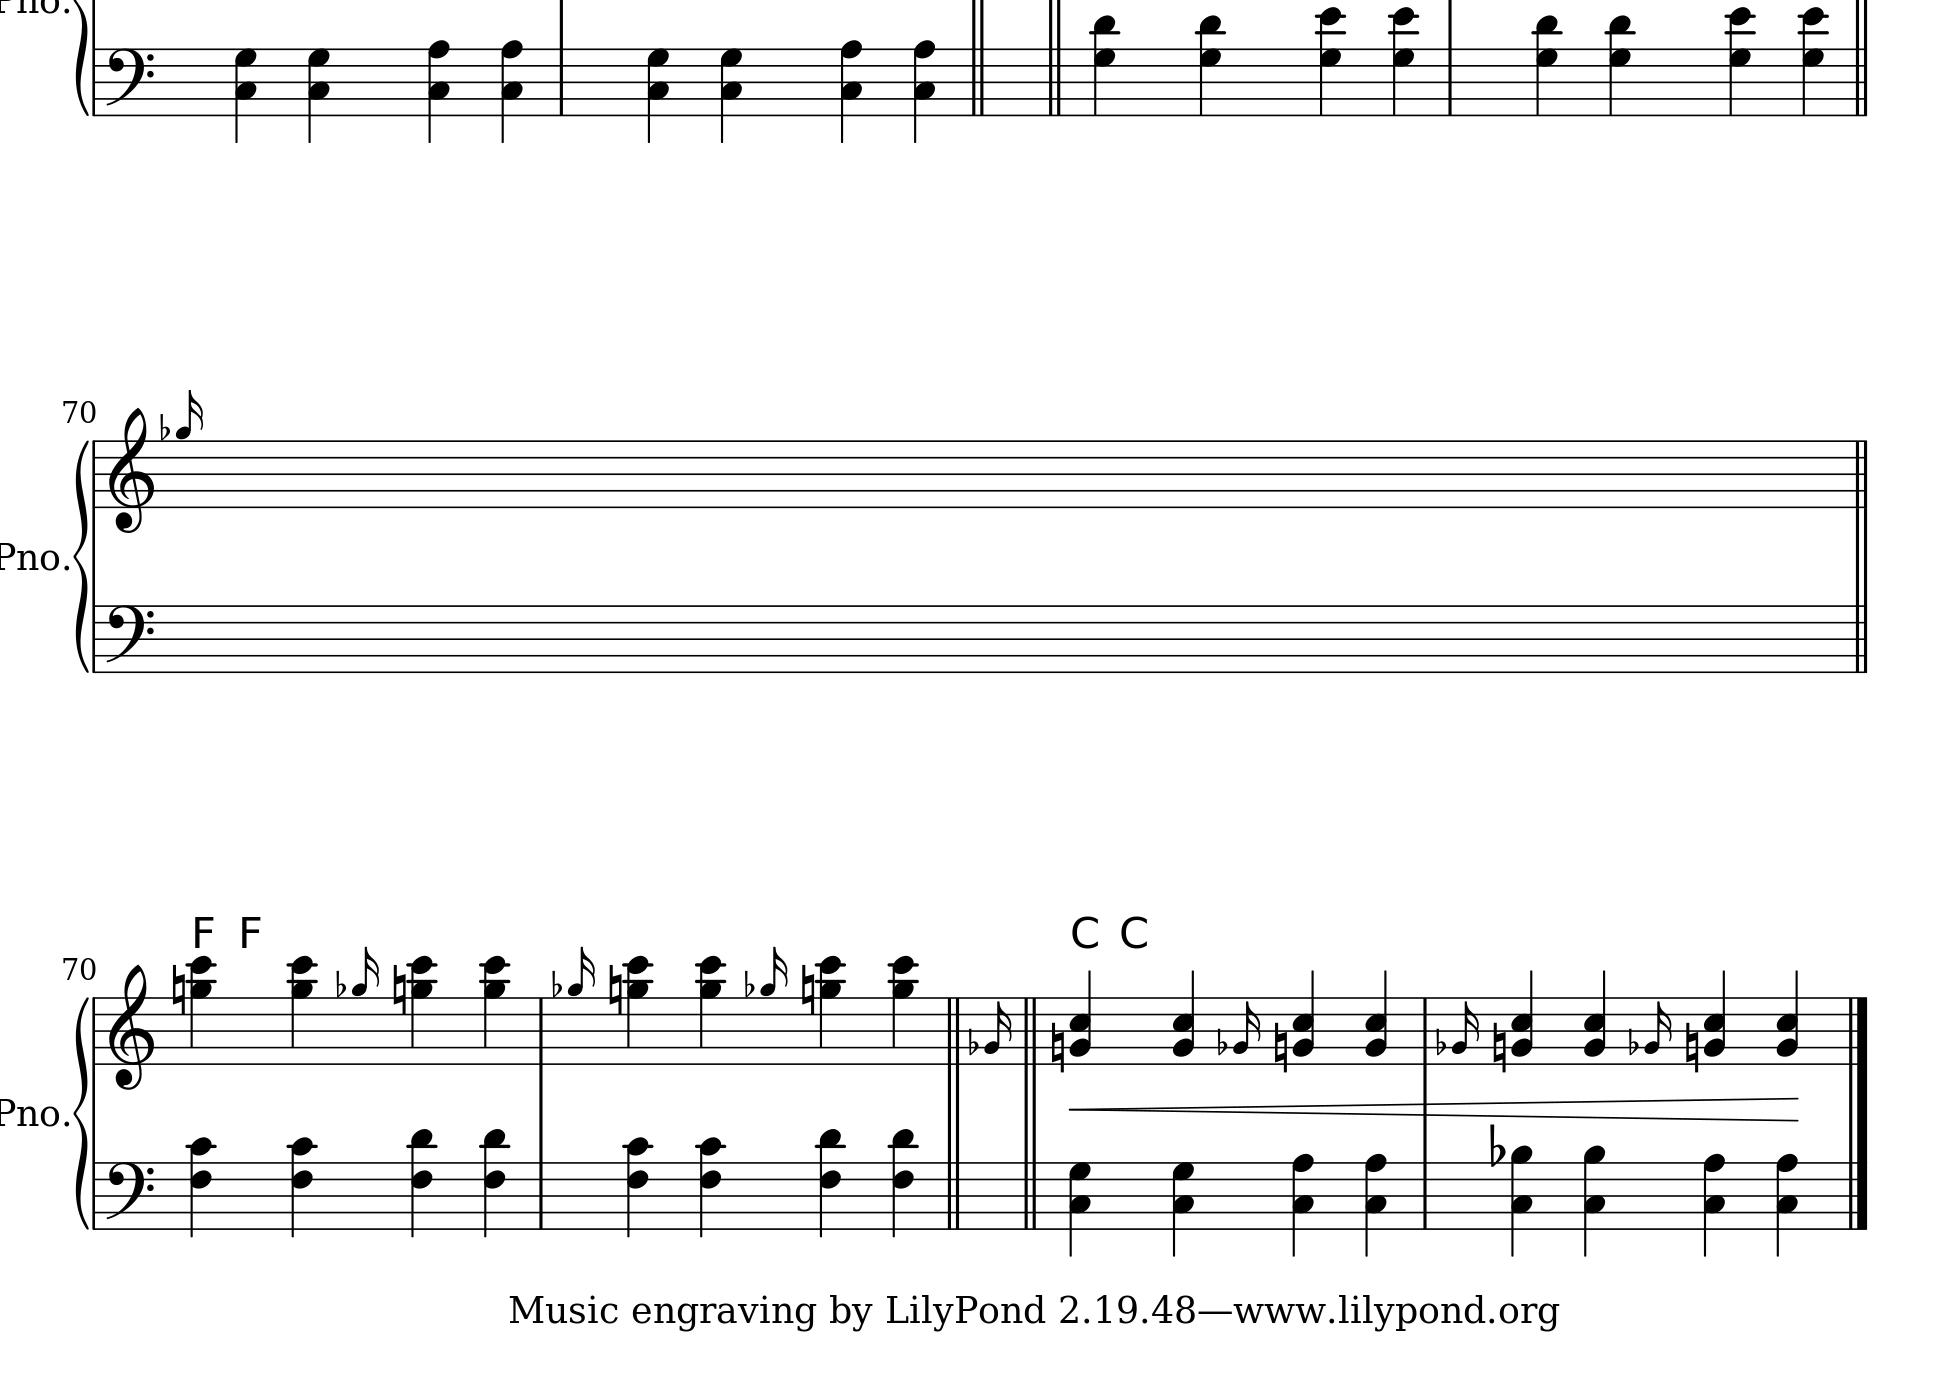0: (79, 952, 97, 982), (79, 396, 97, 424)
16_2: (984, 997, 1012, 1065), (1233, 997, 1261, 1063), (1452, 997, 1480, 1063), (1644, 997, 1672, 1063)
16_9: (175, 390, 204, 510), (351, 946, 379, 1066), (567, 946, 595, 1066), (759, 946, 787, 1066)
4_2_5: (1701, 970, 1728, 1066), (1509, 970, 1536, 1066), (1365, 972, 1392, 1068), (1776, 970, 1801, 1066), (1582, 972, 1608, 1068), (1291, 970, 1317, 1066), (1171, 970, 1197, 1066), (1068, 970, 1093, 1066)
4_3_7: (234, 46, 259, 145), (646, 46, 672, 145), (718, 46, 744, 145), (1068, 1161, 1093, 1258), (1171, 1162, 1197, 1258), (307, 46, 331, 145)
4_3_8: (1363, 1150, 1389, 1258), (1702, 1150, 1728, 1258), (1774, 1150, 1800, 1258), (426, 39, 451, 144), (1293, 1152, 1317, 1260), (499, 39, 523, 144), (838, 37, 862, 142), (913, 39, 937, 144)
4_3_9: (1509, 1144, 1534, 1258), (1581, 1141, 1606, 1255)
4_6_10: (694, 1135, 727, 1237), (184, 1135, 216, 1239), (286, 1137, 318, 1240), (622, 1135, 654, 1237)
4_6_11: (886, 1126, 921, 1237), (405, 1128, 439, 1237), (813, 1128, 847, 1237), (478, 1126, 511, 1237)
4_7_11: (1530, 13, 1563, 120), (1603, 13, 1636, 120), (1089, 13, 1122, 118), (1197, 13, 1230, 118)
4_7_12: (1722, 4, 1759, 117), (1312, 7, 1350, 118), (1384, 7, 1422, 118), (1794, 4, 1830, 117)
4_9_12: (886, 955, 921, 1066), (817, 955, 852, 1066), (622, 955, 657, 1066), (696, 955, 730, 1065), (478, 955, 513, 1065), (286, 955, 321, 1065), (406, 955, 439, 1066), (187, 955, 220, 1066)
7: (61, 952, 78, 982), (61, 397, 78, 424)
Brace: (70, 993, 91, 1228), (72, 435, 91, 675)
Crescendo_hairpin: (1068, 1095, 1804, 1123)
Double_barline: (1017, 1159, 1045, 1228), (964, 46, 990, 115), (940, 1159, 966, 1228), (1044, 46, 1068, 115), (1849, 46, 1873, 115), (1020, 996, 1042, 1065), (940, 996, 963, 1063)
Fclef: (103, 1159, 156, 1231), (103, 46, 154, 118), (103, 603, 156, 669)
Final_barline: (1843, 996, 1872, 1063), (1840, 1161, 1869, 1228), (1849, 604, 1872, 672), (1851, 439, 1872, 505)
Flat: (1488, 1120, 1506, 1168), (1626, 1024, 1641, 1056), (966, 1024, 979, 1056), (1215, 1024, 1228, 1056), (1434, 1024, 1447, 1056), (157, 412, 171, 442), (334, 967, 346, 997), (550, 967, 562, 997), (742, 967, 754, 997)
Gclef: (106, 963, 156, 1090), (106, 406, 154, 535)
Natural: (169, 961, 187, 1017), (1050, 1020, 1068, 1075), (1272, 1020, 1290, 1075), (1491, 1020, 1509, 1075), (390, 961, 406, 1018), (799, 961, 816, 1017), (1684, 1020, 1701, 1075), (607, 961, 622, 1017)
Pno: (1, 1095, 60, 1129), (1, 540, 61, 573)
Single_barline: (550, 48, 571, 114), (1440, 48, 1459, 115), (531, 997, 550, 1063), (531, 1161, 550, 1225), (1416, 997, 1434, 1063), (1416, 1161, 1434, 1227), (88, 49, 103, 115), (88, 439, 102, 508), (88, 604, 102, 670), (88, 1162, 102, 1227), (88, 997, 100, 1063)
